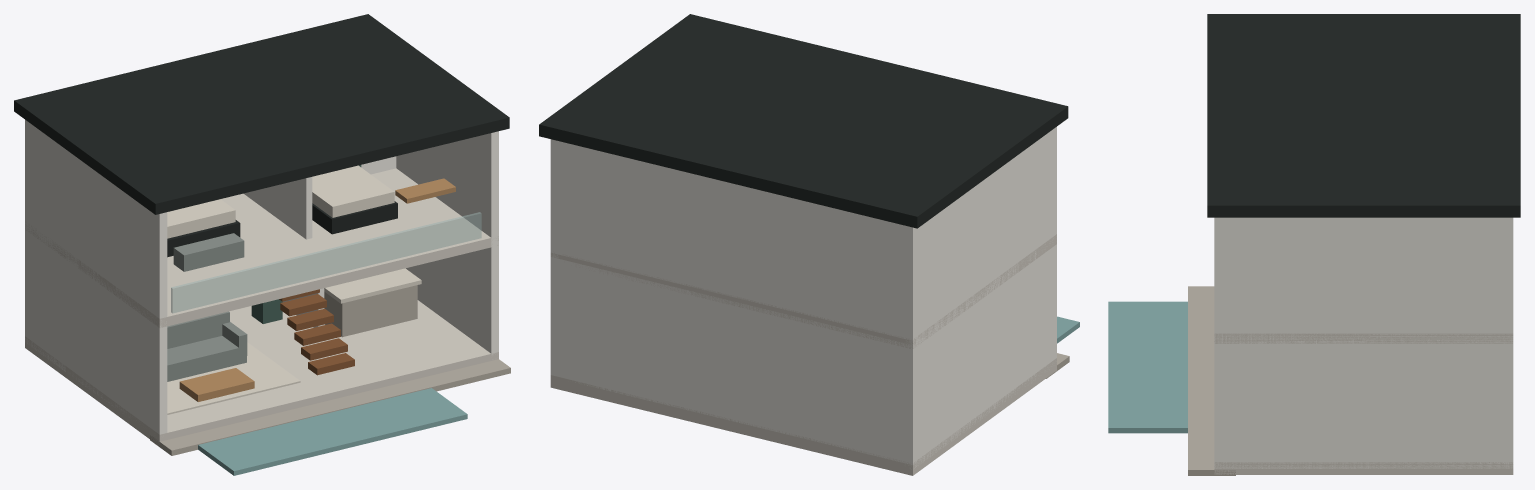
File: demo-house.glb
The picture shows the model from 3 angles, left to right: view 1: azimuth 30°, elevation 25°; view 2: azimuth 150°, elevation 25°; view 3: azimuth 270°, elevation 25°; orthographic projection. The views are drawn at different scales.
Parts seen in each view (by area): view 1: Roof, LeftWall, UpperFloor, GroundFloor, RightWall, Pool, UpperGlassRailing, PoolDeck, BedroomMattress, KitchenIsland, LivingRug, UpperRoomPartition (+16 smaller); view 2: Roof, GroundBackWall, UpperBackWall, LeftWall, GroundFloor, UpperFloor; view 3: RightWall, Roof, Pool, PoolDeck, GroundFloor, UpperFloor, UpperBackWall, GroundBackWall.
Boxes of the visible parts, x1,y1,x2,y2 form: Roof: (14, 14, 509, 214); LeftWall: (25, 119, 167, 434); UpperFloor: (25, 168, 498, 327); GroundFloor: (25, 300, 498, 445); RightWall: (396, 131, 498, 359); Pool: (198, 388, 467, 475); UpperGlassRailing: (171, 212, 481, 313); PoolDeck: (150, 359, 510, 455); BedroomMattress: (312, 165, 394, 217); KitchenIsland: (324, 285, 417, 337); LivingRug: (167, 342, 300, 414); UpperRoomPartition: (243, 177, 312, 239); Roof: (539, 14, 1068, 228); GroundBackWall: (550, 257, 917, 465); UpperBackWall: (550, 139, 917, 340); LeftWall: (905, 127, 1056, 469); GroundFloor: (550, 358, 1056, 475); UpperFloor: (550, 234, 1056, 348); RightWall: (1214, 217, 1513, 468); Roof: (1207, 14, 1520, 217); Pool: (1108, 301, 1187, 433); PoolDeck: (1188, 286, 1235, 475); GroundFloor: (1214, 462, 1513, 474); UpperFloor: (1214, 333, 1513, 343); UpperBackWall: (1503, 217, 1513, 333); GroundBackWall: (1503, 341, 1513, 463).
Size of the model in its own units: 9.4 by 6.28 by 8.55.
